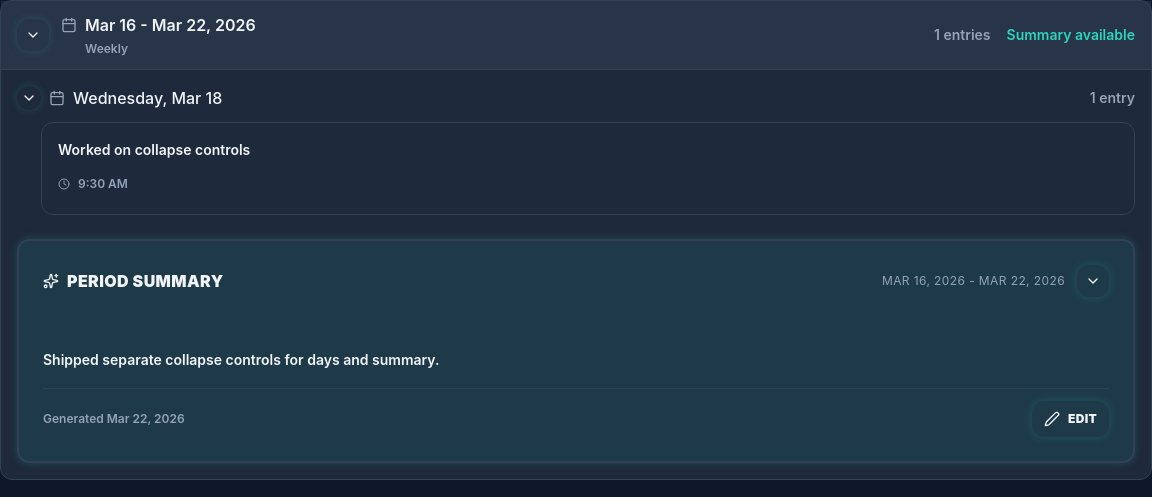
Test case: WeekGroup › keeps the summary visible when the group days are collapsed
Expected: the heading "Wednesday, Mar 18" is shown, [73, 86, 222, 110]
Expected: the text "Shipped separate collapse controls for days and summary." is shown, [43, 351, 440, 368]
Click the button named "Collapse days". click: (33, 35)
box: [17, 19, 49, 51]
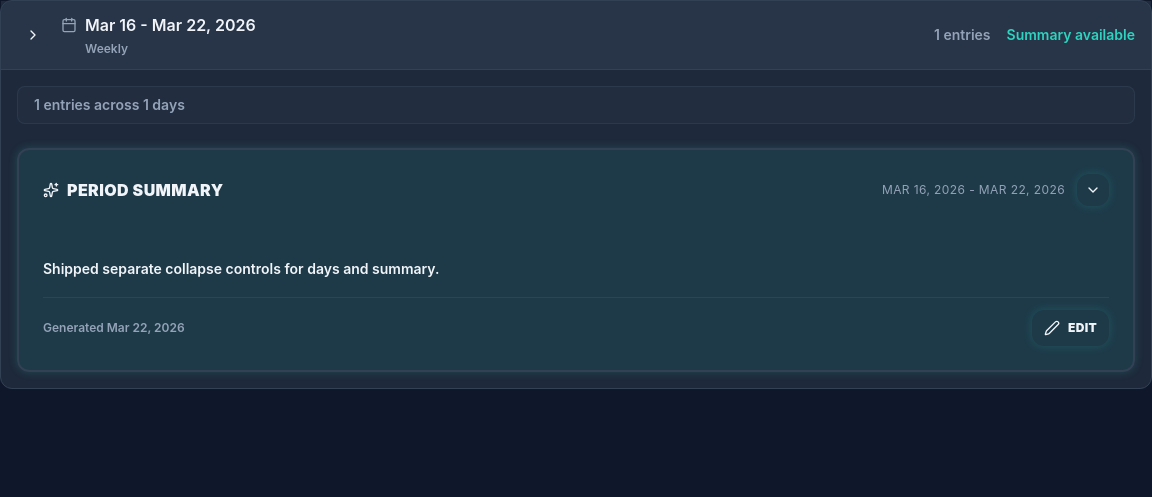
Expected: the text "Shipped separate collapse controls for days and summary." is shown, [43, 260, 440, 277]
Now the heading "Wednesday, Mar 18" is gone
Now the text "1 entries across 1 days" is shown, box [34, 96, 185, 113]
